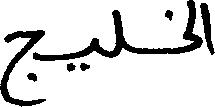X: (0, 25, 44, 106), (182, 0, 201, 57), (203, 0, 214, 59), (112, 5, 122, 62), (89, 33, 99, 72)
